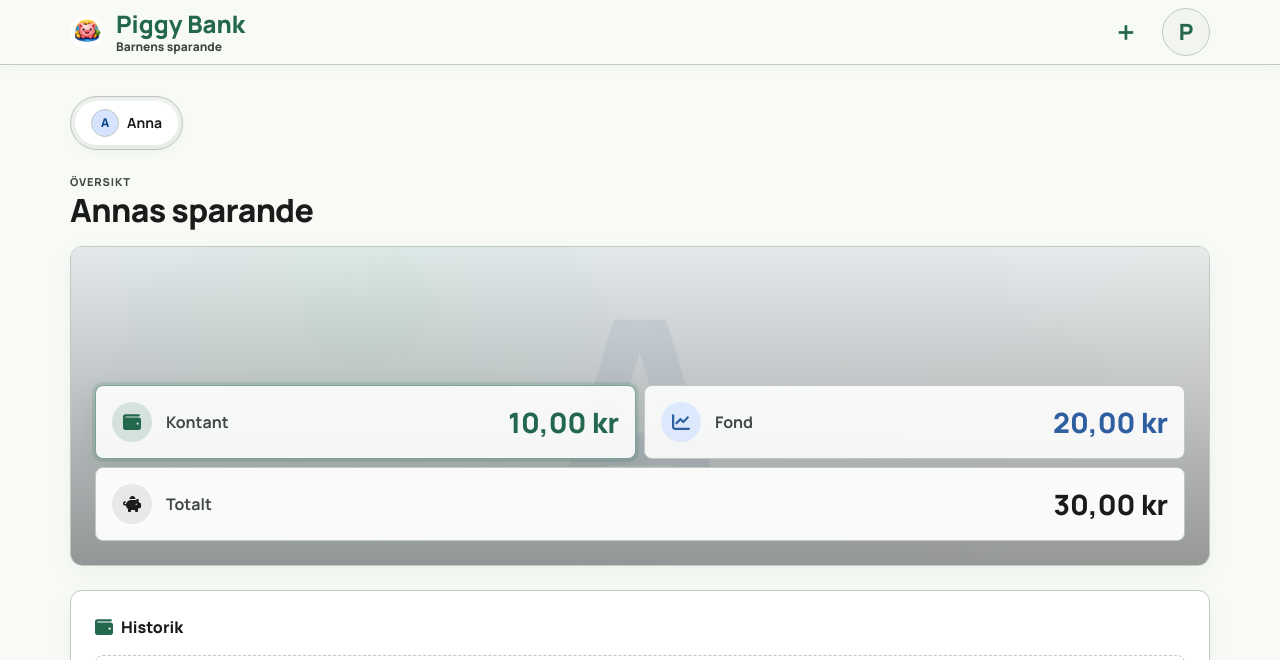
Scenario: App › creates another parent from settings
Check: the heading "Annas sparande" is shown, box [70,190,313,230]
Click the button named "Användare parent".
click(1186, 32)  # box [1162,8,1210,56]
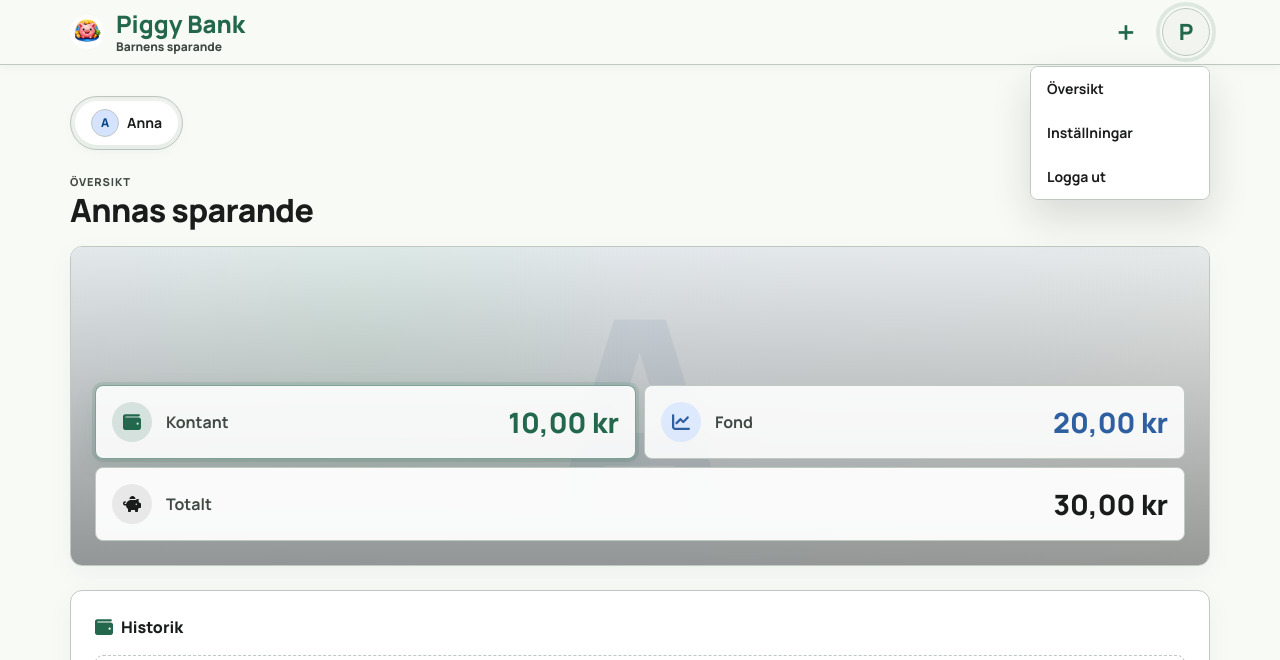
Click the menu item "Inställningar".
click(1120, 133)  # box [1031,111,1209,155]
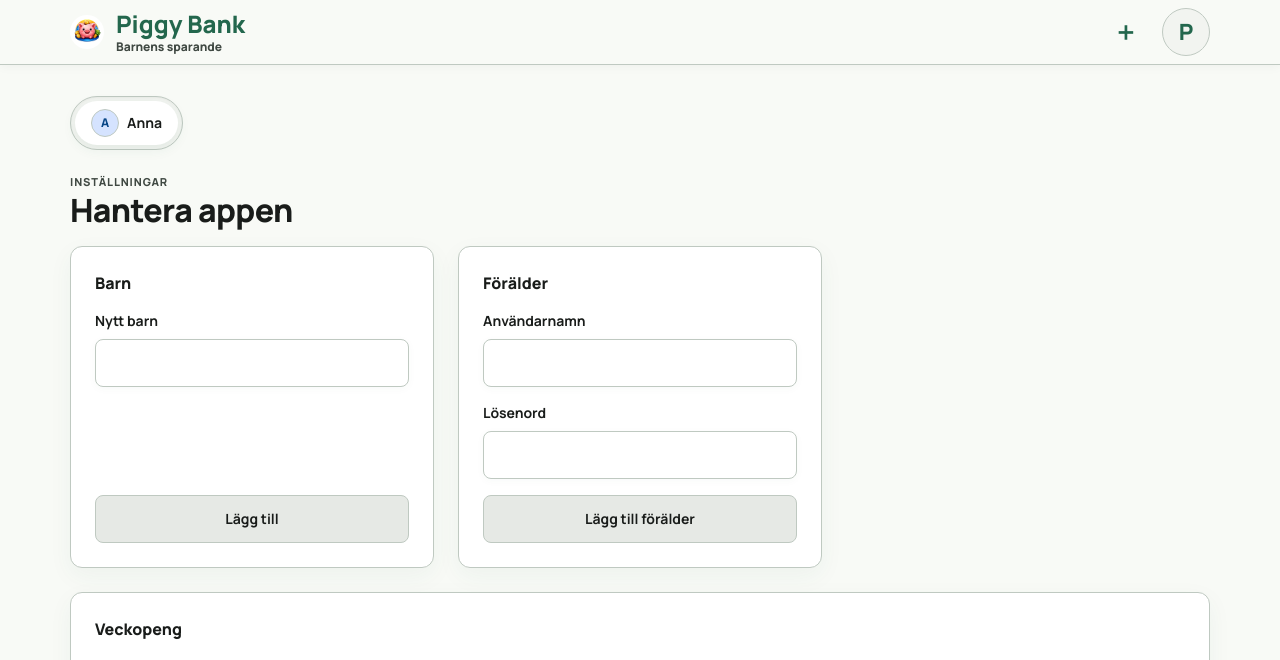
Check: the element "Förälder" is shown, box [458,246,822,568]
Type "partner" into the field labelled "Användarnamn".
click(640, 363); type("partner")  # box [483,339,797,387]
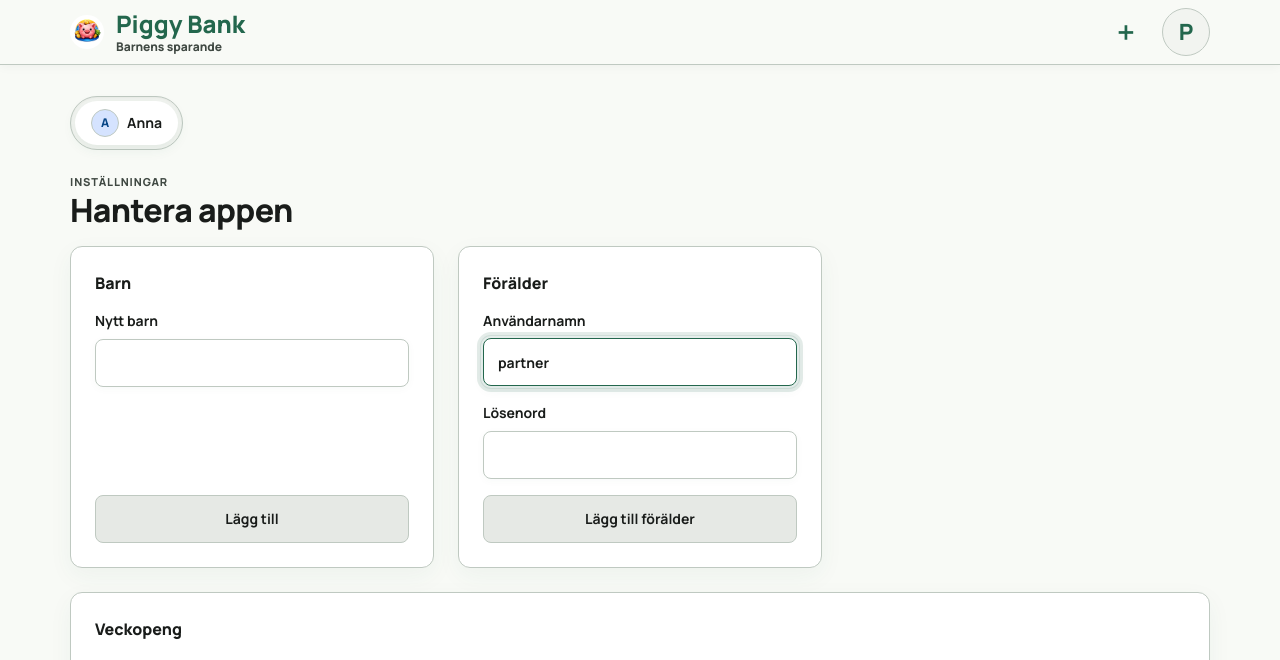
Type "partner123" into the password field labelled "Lösenord".
click(640, 455); type("partner123")  # box [483,431,797,479]
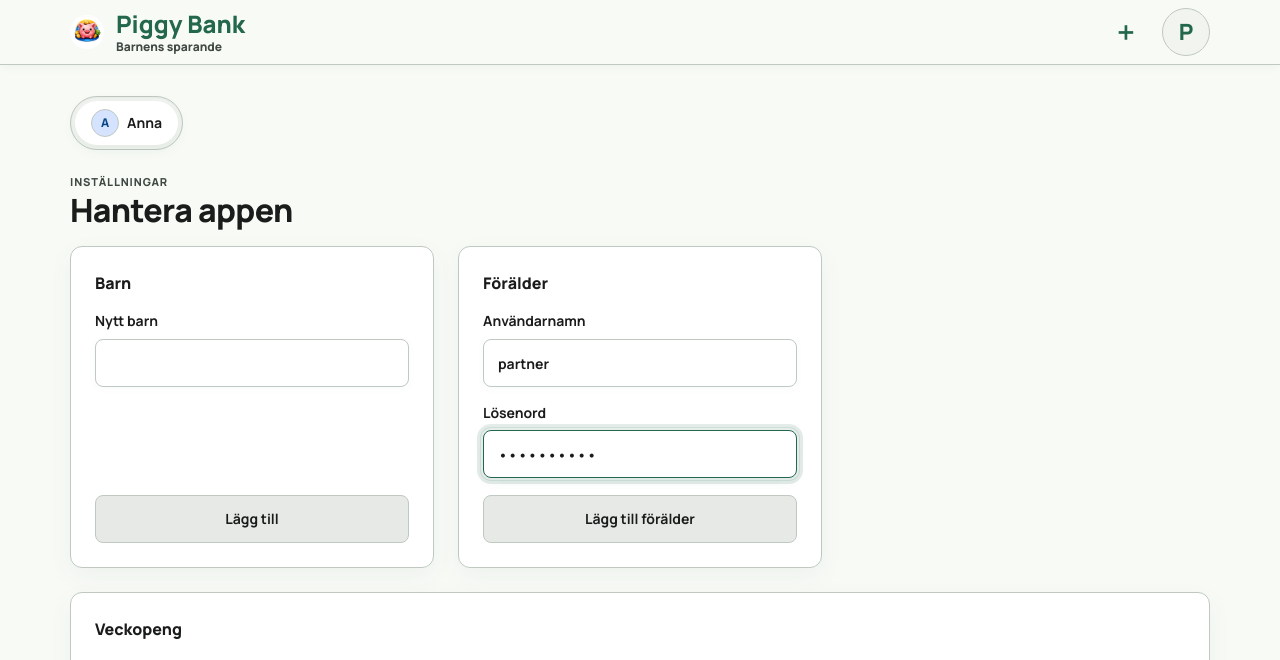
Click the button "Lägg till förälder".
click(640, 519)  # box [483,495,797,543]
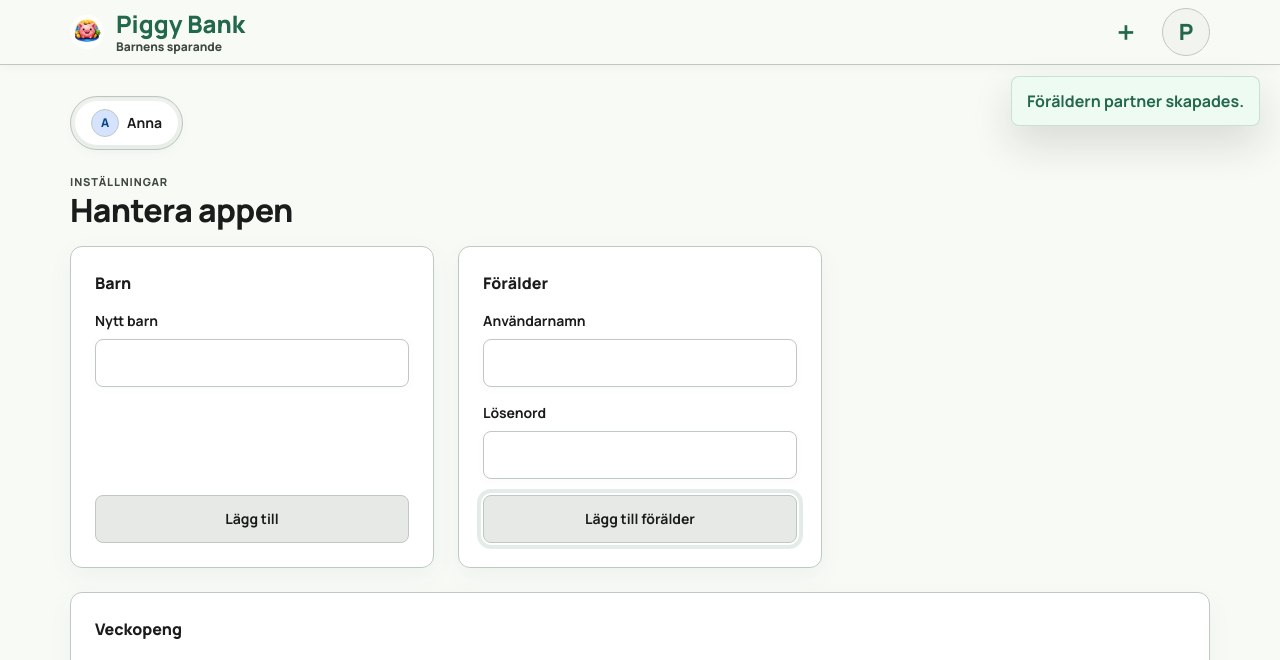
Check: the text "Föräldern partner skapades." is shown, box [1011,76,1260,126]
